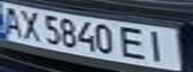0: (93, 21, 118, 55)
4: (75, 19, 96, 52)
5: (39, 12, 63, 46)
8: (57, 16, 78, 48)
A: (0, 3, 27, 37)
E: (118, 25, 151, 61)
I: (142, 28, 175, 63)
X: (15, 8, 45, 42)
